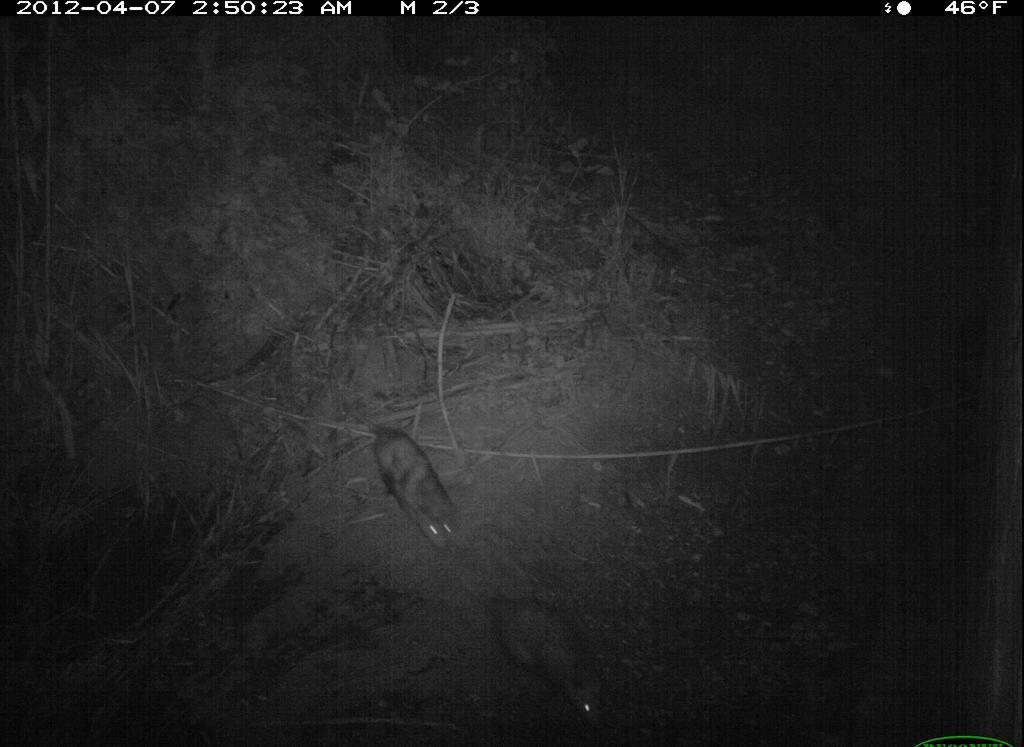opossum: (353, 420, 475, 580), (484, 583, 612, 731)
